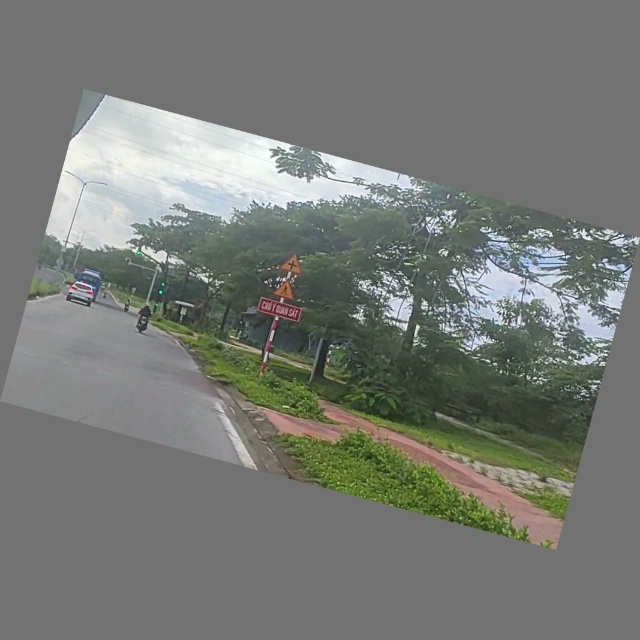W.205a: (280, 252, 306, 276)
W.224: (272, 275, 302, 303)
